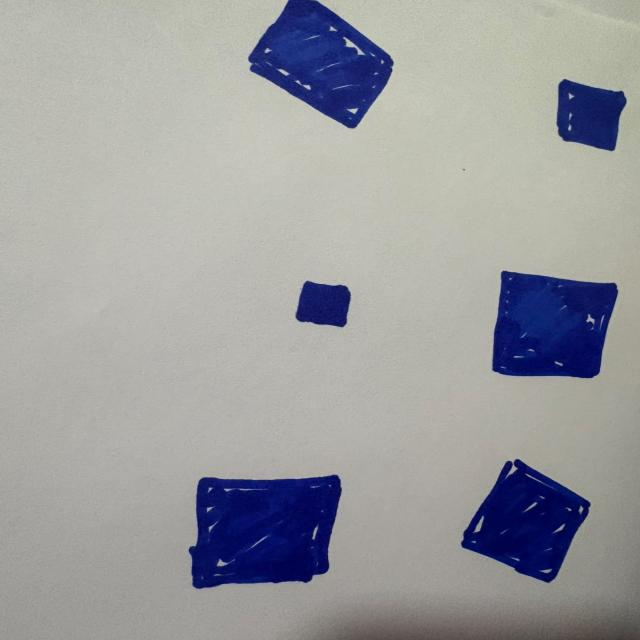Square: (189, 475, 341, 588), (461, 460, 589, 582), (492, 271, 617, 378), (556, 79, 626, 151), (295, 280, 351, 327)
